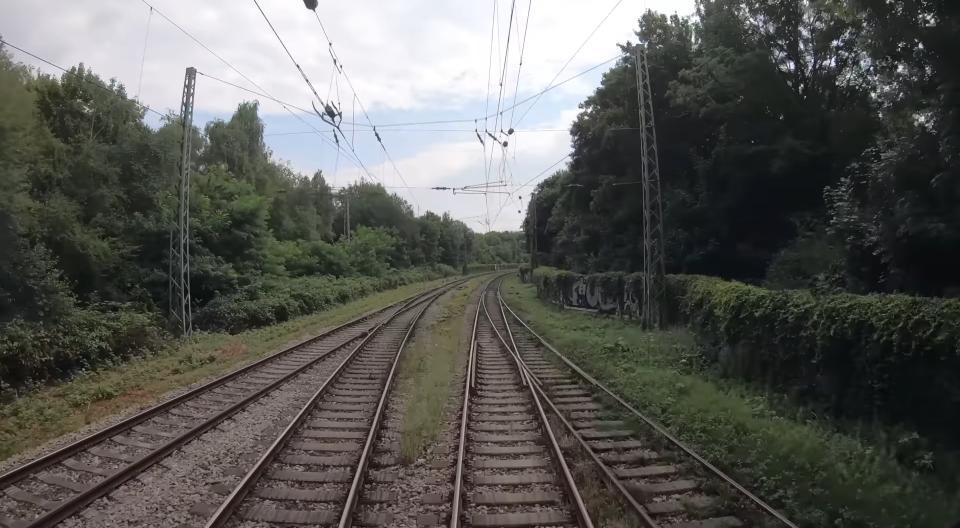Plant: (504, 278, 960, 528), (0, 280, 437, 461), (401, 281, 478, 462), (542, 400, 647, 528)
